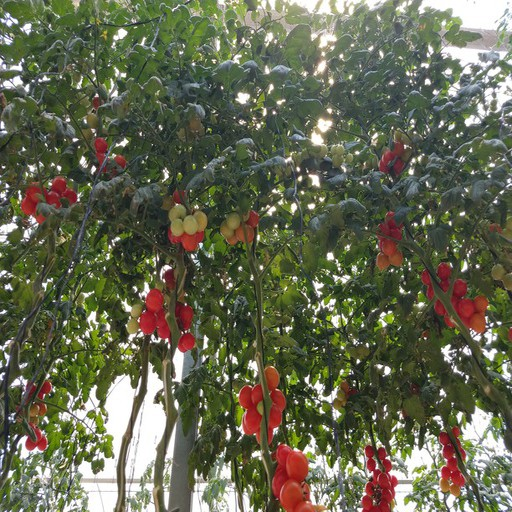green tomato bunch: (277, 144, 355, 172)
mixed tomato bunch: (168, 205, 210, 255), (220, 210, 258, 244), (334, 379, 357, 411)
red tomato bunch: (421, 263, 490, 338), (141, 265, 199, 350), (241, 364, 287, 445), (270, 442, 322, 512), (363, 445, 399, 512), (21, 176, 76, 219), (19, 377, 50, 451), (438, 428, 465, 498), (373, 212, 403, 267), (92, 135, 127, 176), (381, 140, 410, 178)
